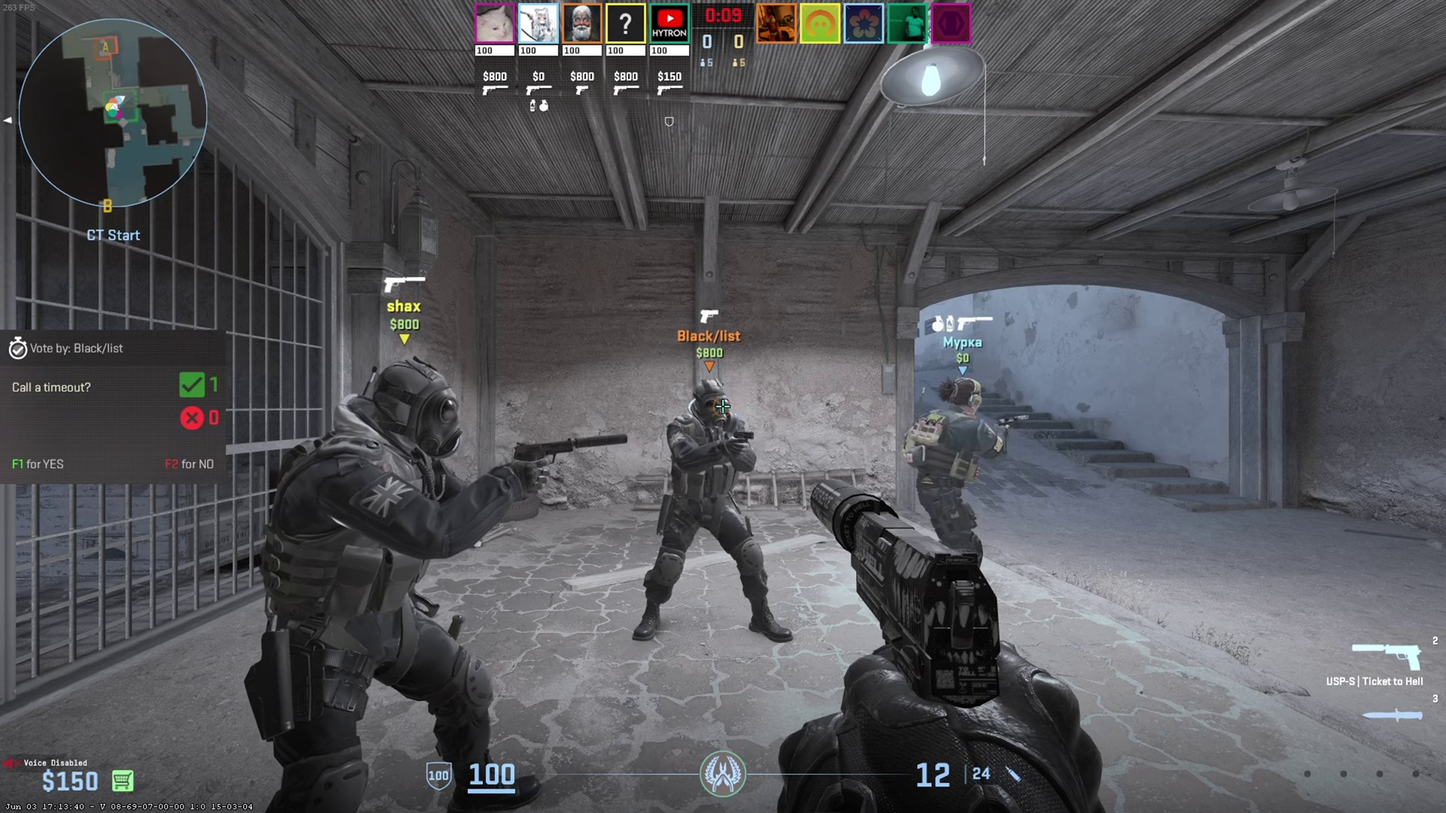CT: (263, 350, 489, 784), (645, 385, 766, 641), (909, 371, 1006, 584)
